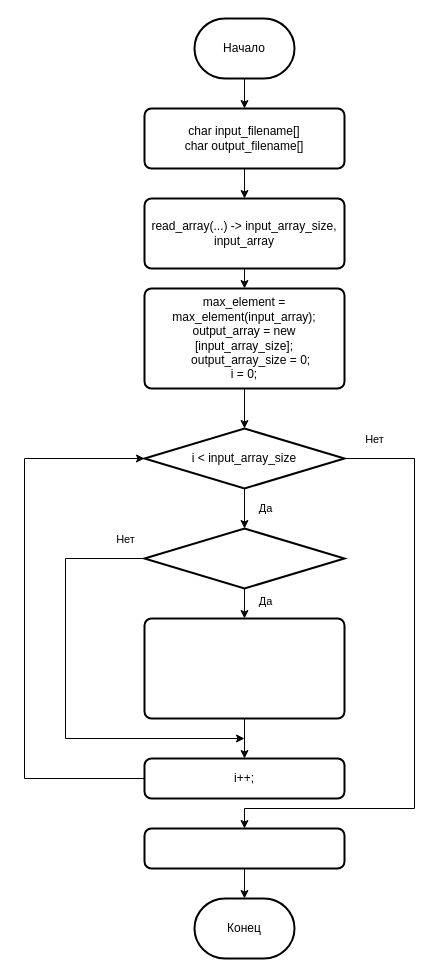
The diagram is 440 pixels wide and 976 high, and some of its shapes have lost their labels. Each missing label, with the centre of its shape:
"input_array[i] != max_element" goes at [244,558].
"output_array[output_array_size] = input_array[i]; output_array_size++;" goes at [244,668].
"write_array(...)" goes at [244,848].
